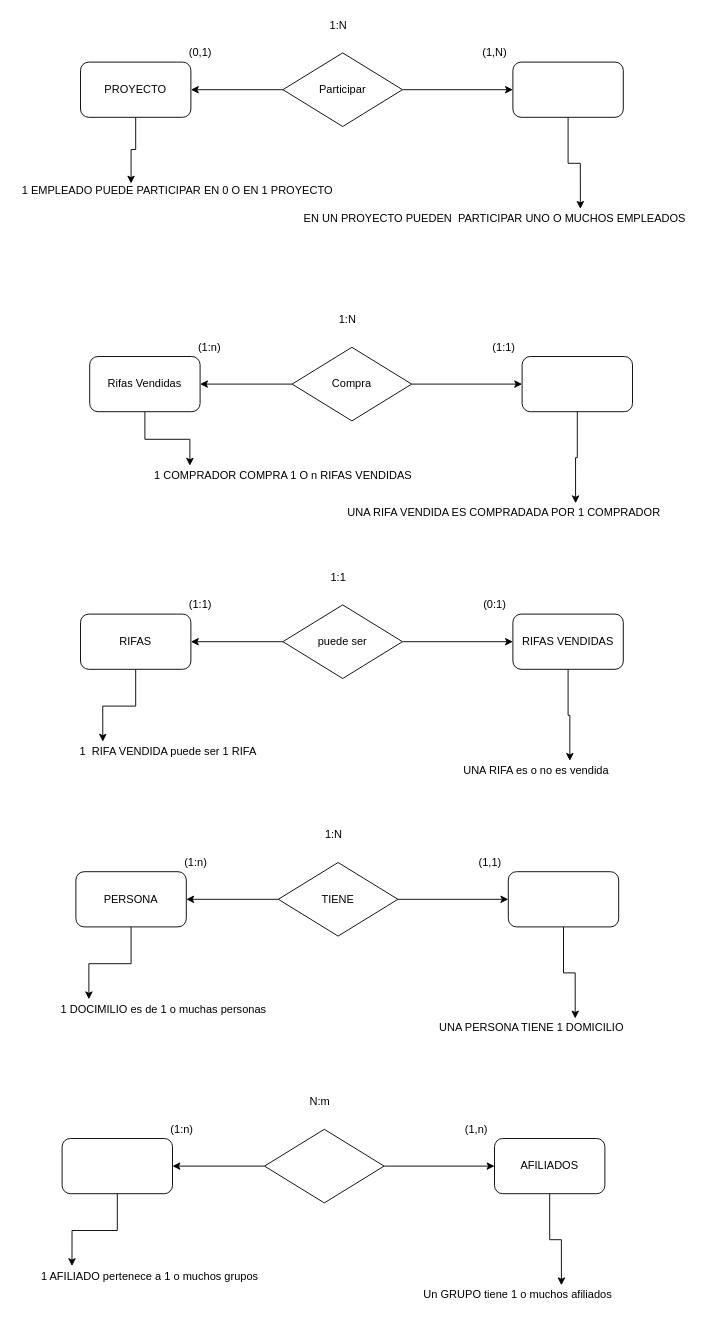
This 707x1319 diagram has some shape labels left out. Each missing label, with the centre of its shape:
COMPRADOR: pixel 576 384
DOMICILIO: pixel 563 899
EMPLEADO: pixel 567 89
GRUPO: pixel 116 1166
Pertenece: pixel 324 1165
